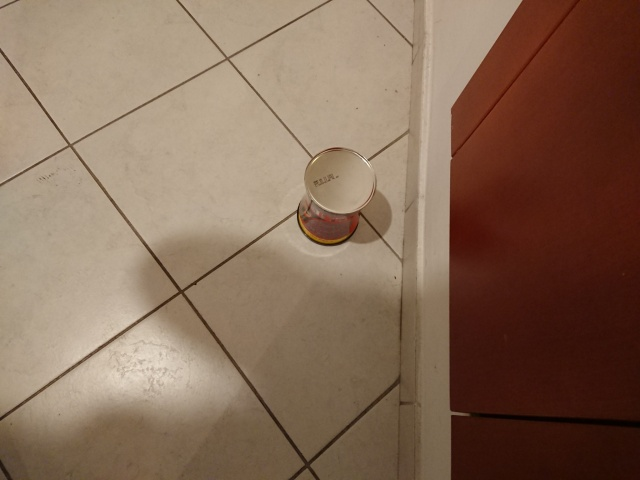Nescafe Classic 225g: (294, 145, 378, 250)
